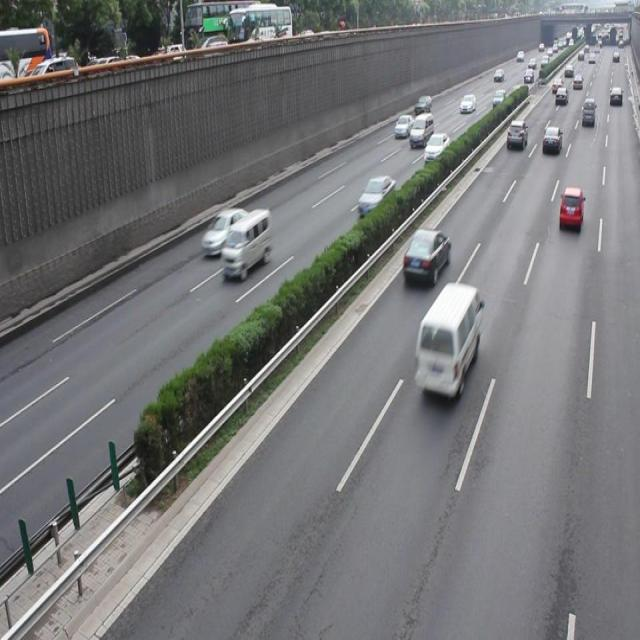car: (402, 227, 450, 284), (200, 207, 248, 258), (356, 174, 394, 218), (557, 187, 582, 234)
truck: (413, 282, 481, 397), (220, 208, 271, 278)
